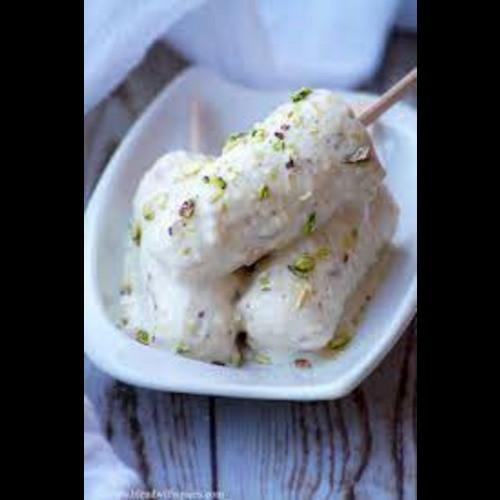Kulfi: (151, 89, 387, 283), (244, 161, 399, 353), (125, 148, 229, 366)
